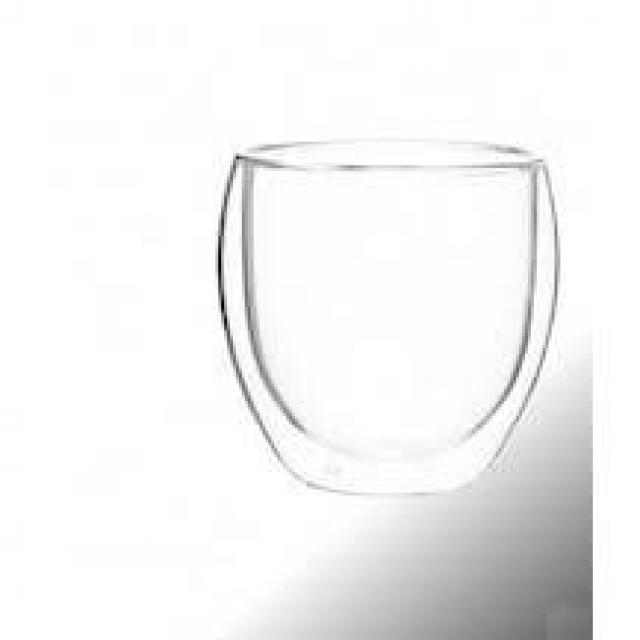non-organic waste: (208, 127, 568, 504)
